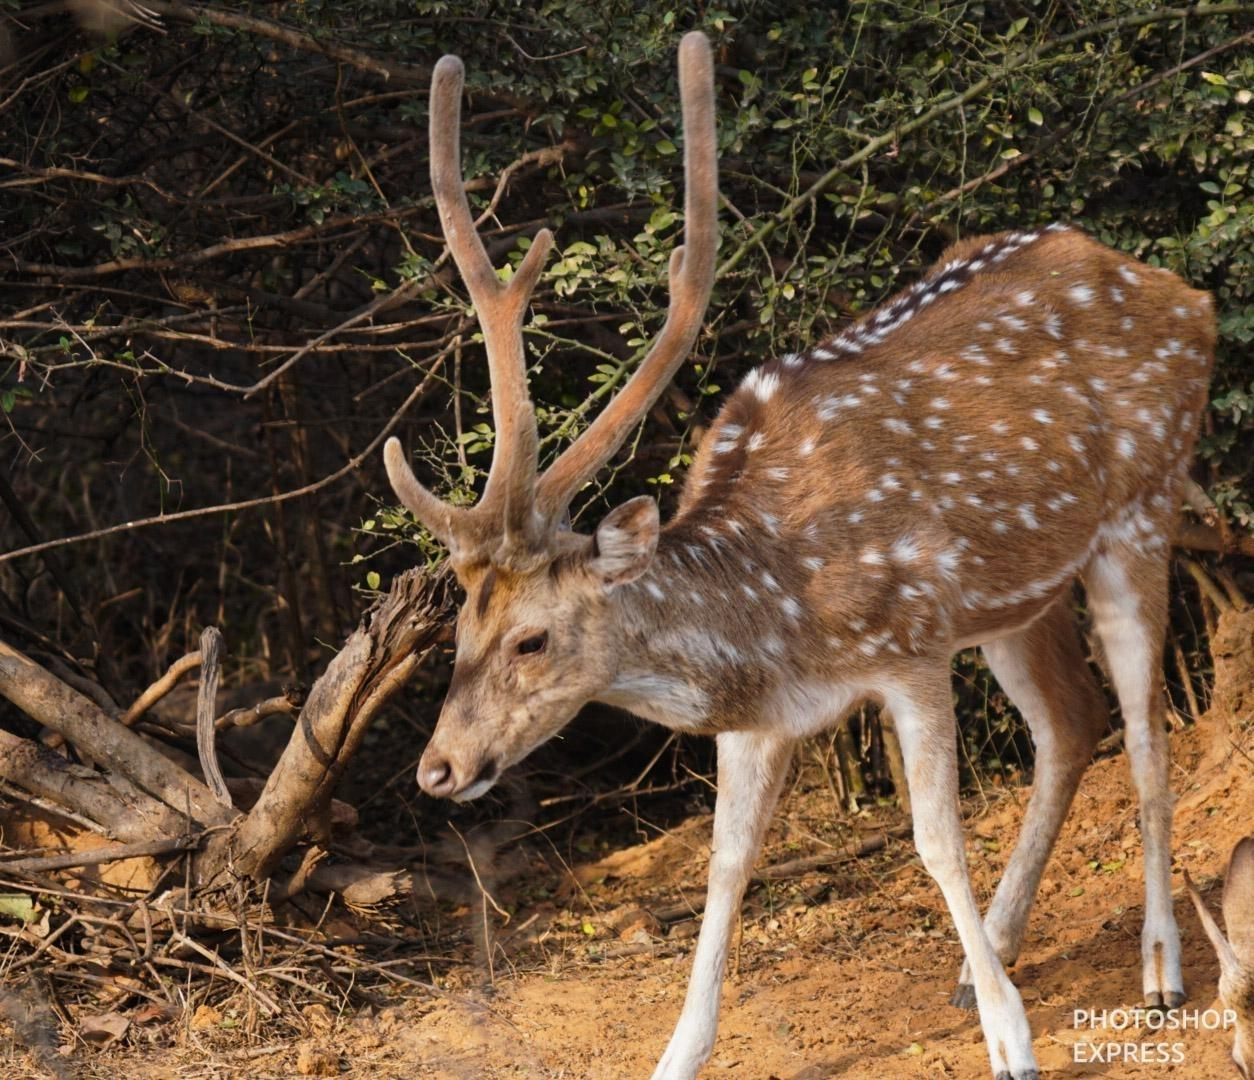Deer: (385, 32, 1213, 1079)
